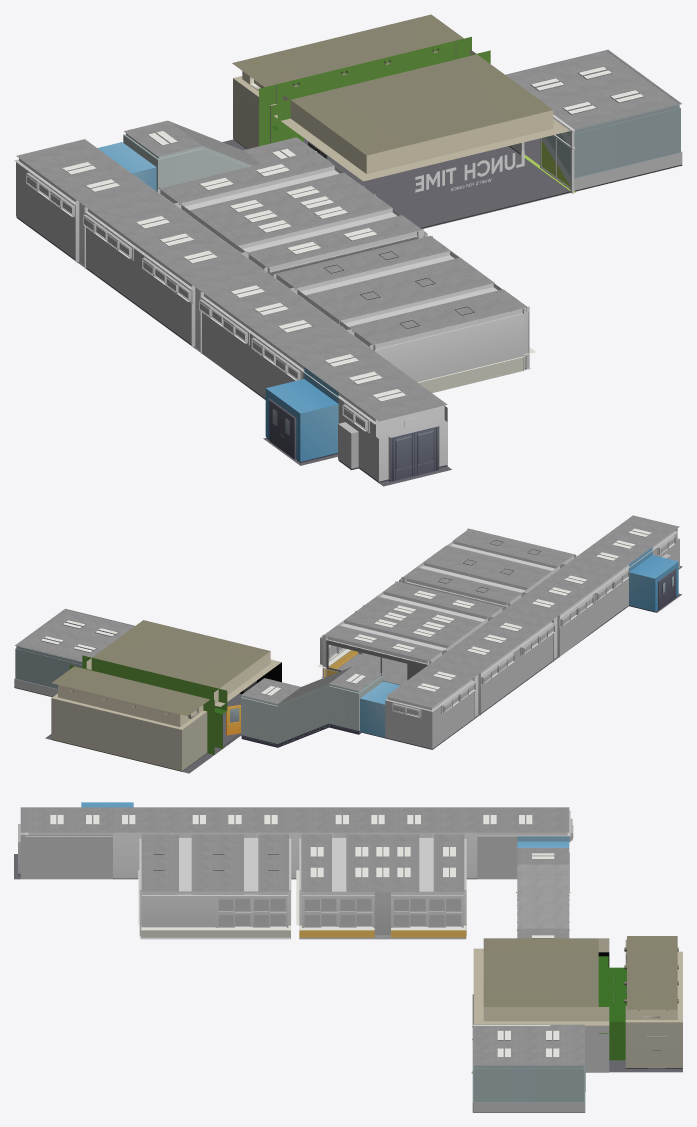
The model's file is CR_Room_Wall.FBX.
The picture shows the model from 3 angles, top to bottom: view 1: azimuth 30°, elevation 25°; view 2: azimuth 150°, elevation 25°; view 3: azimuth 270°, elevation 25°; orthographic projection. The views are drawn at different scales.
Visible parts, largest first — view 1: CR_RoomFloor_005, CR_RoomCeiling_002, CR_RoomCeiling_001, CR_RoomWindow_002, CR_RoomWall_001, CR_RoomGroup_004, CR_RoomCeiling_003, CR_RoomFloor_004, CR_RoomLight_white_001, CR_RoomGroup_001, CR_RoomWindowA_003, CR_RoomWall_004 (+2 smaller); view 2: CR_RoomFloor_005, CR_RoomCeiling_002, CR_RoomCeiling_001, CR_RoomWindow_002, CR_RoomWall_001, CR_RoomCeiling_003, CR_RoomGroup_001, CR_RoomLight_white_001, CR_RoomGroup_004, CR_RoomFloor_001, CR_RoomWindowA_003, CR_RoomFloor_004; view 3: CR_RoomFloor_005, CR_RoomCeiling_002, CR_RoomCeiling_001, CR_RoomGroup_004, CR_RoomCeiling_003, CR_RoomGroup_001, CR_RoomWall_001, CR_RoomLight_white_001, CR_RoomWindowA_001, CR_RoomWindow_002, CR_RoomWindowA_002, CR_RoomGroup_003 (+3 smaller).
Part boxes in pixels (box(x1,y1,x2,y2)): CR_RoomFloor_005: box(123, 14, 681, 228); CR_RoomCeiling_002: box(160, 151, 527, 344); CR_RoomCeiling_001: box(16, 139, 447, 421); CR_RoomWindow_002: box(14, 142, 447, 482); CR_RoomWall_001: box(16, 160, 447, 481); CR_RoomGroup_004: box(273, 236, 535, 392); CR_RoomCeiling_003: box(124, 49, 681, 165); CR_RoomFloor_004: box(222, 138, 682, 228); CR_RoomLight_white_001: box(62, 66, 643, 427); CR_RoomGroup_001: box(157, 151, 427, 276); CR_RoomWindowA_003: box(27, 175, 364, 428); CR_RoomWall_004: box(574, 152, 682, 190); CR_RoomFloor_005: box(14, 609, 382, 771); CR_RoomCeiling_002: box(324, 528, 574, 660); CR_RoomCeiling_001: box(385, 515, 679, 707); CR_RoomWindow_002: box(360, 529, 679, 749); CR_RoomWall_001: box(385, 533, 679, 748); CR_RoomCeiling_003: box(15, 608, 382, 704); CR_RoomGroup_001: box(317, 581, 504, 685); CR_RoomLight_white_001: box(41, 528, 651, 695); CR_RoomGroup_004: box(399, 528, 576, 608); CR_RoomFloor_001: box(321, 653, 407, 684); CR_RoomWindowA_003: box(393, 538, 674, 715); CR_RoomFloor_004: box(14, 687, 242, 773); CR_RoomFloor_005: box(471, 892, 682, 1112); CR_RoomCeiling_002: box(141, 834, 464, 891); CR_RoomCeiling_001: box(20, 807, 569, 832); CR_RoomGroup_004: box(113, 832, 291, 937); CR_RoomCeiling_003: box(472, 848, 584, 1065); CR_RoomGroup_001: box(296, 832, 466, 937); CR_RoomWall_001: box(20, 835, 570, 879); CR_RoomLight_white_001: box(50, 815, 559, 1057); CR_RoomWindowA_001: box(304, 899, 460, 926); CR_RoomWindow_002: box(18, 802, 573, 891); CR_RoomWindowA_002: box(218, 899, 285, 926); CR_RoomGroup_003: box(585, 952, 609, 1072).
Bounding box in the file's own units: 3270 × 556 × 3892.
